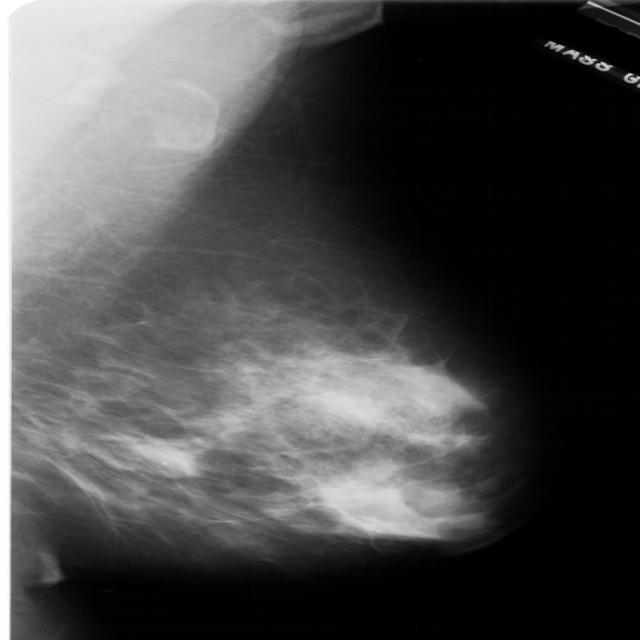tumour: (129, 438, 196, 475)
